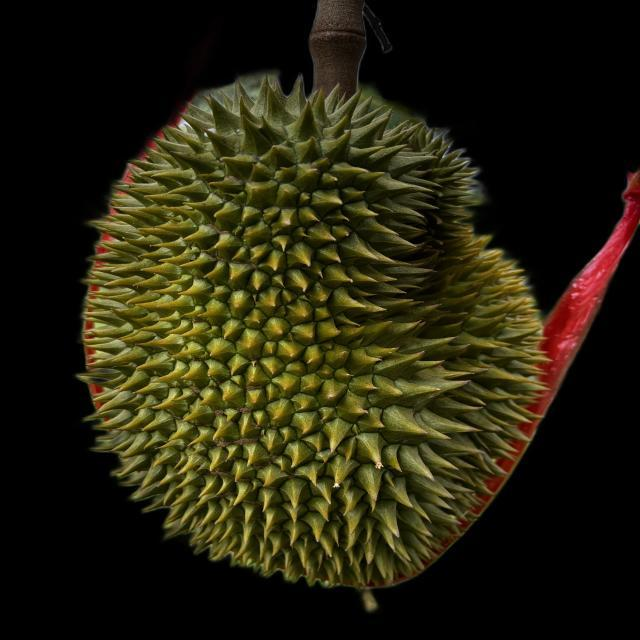immature: (81, 73, 552, 585)
